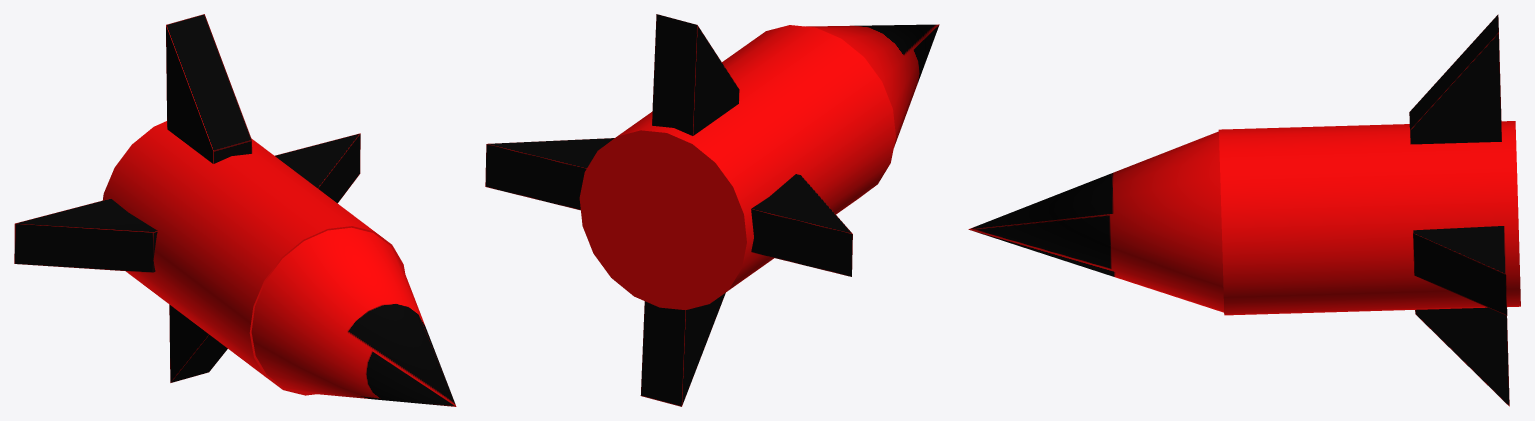
Rendered from rocket.obj.
3 views of the same model, side by side, from view 1: azimuth 30°, elevation 25°; view 2: azimuth 150°, elevation 25°; view 3: azimuth 270°, elevation 25° (orthographic). The views are drawn at different scales.
Parts seen in each view (by area): view 1: pCone2; view 2: pCone2; view 3: pCone2.
Part boxes in pixels (x1,y1,x2,y2): pCone2: [14, 14, 456, 406]; pCone2: [485, 14, 939, 406]; pCone2: [968, 14, 1520, 406].
Bounding box in the file's own units: 4.32 × 4.33 × 5.84.
1 material, 1 textured.
